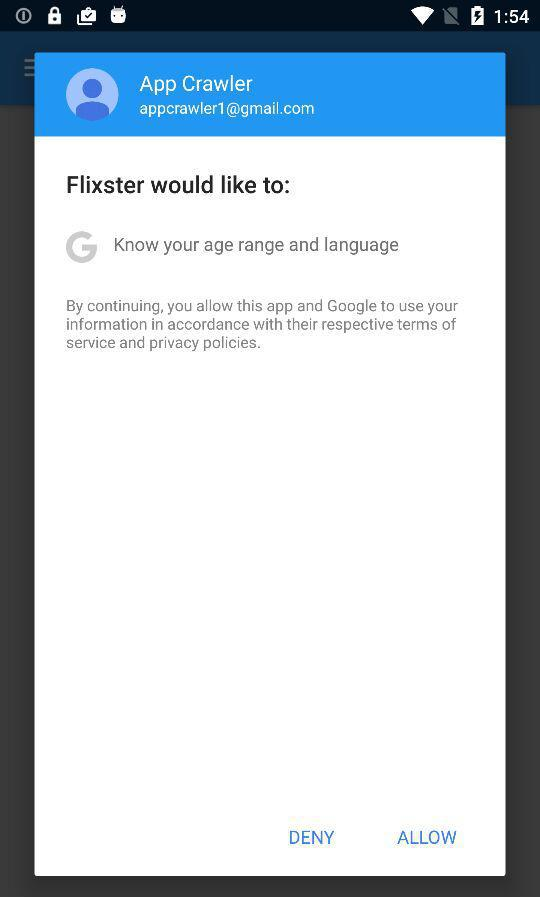Icon: (66, 68, 120, 122)
Modal: (35, 52, 506, 877)
Text: (67, 300, 459, 353), (114, 237, 399, 256), (67, 175, 290, 195), (140, 101, 315, 119), (140, 75, 254, 97), (66, 231, 98, 264), (397, 830, 457, 845), (290, 830, 335, 845)
UpperTaskBar: (1, 1, 540, 33)
